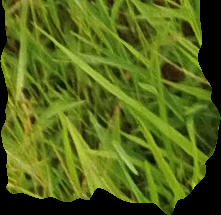grass: (1, 1, 220, 213)
